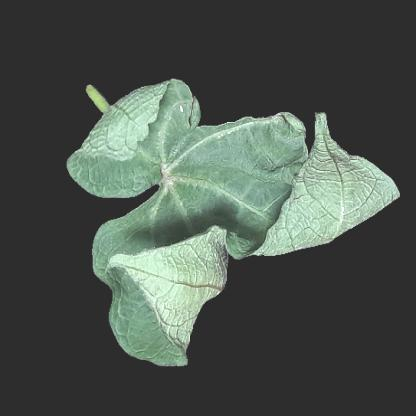curl_stage2: (236, 127, 332, 243), (110, 225, 204, 307), (107, 114, 189, 184), (333, 160, 383, 220), (139, 308, 189, 362), (207, 229, 227, 293)
